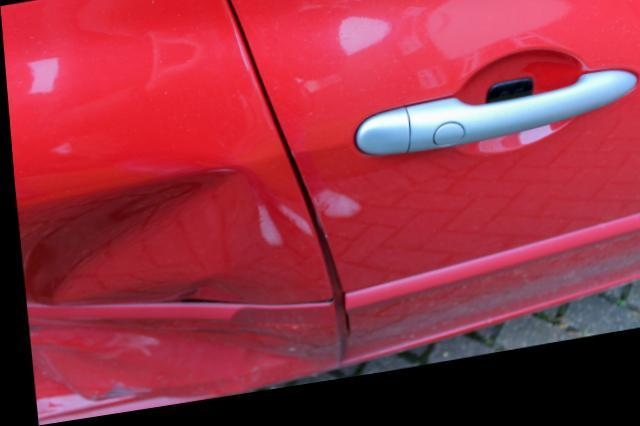dent: (15, 176, 251, 317)
